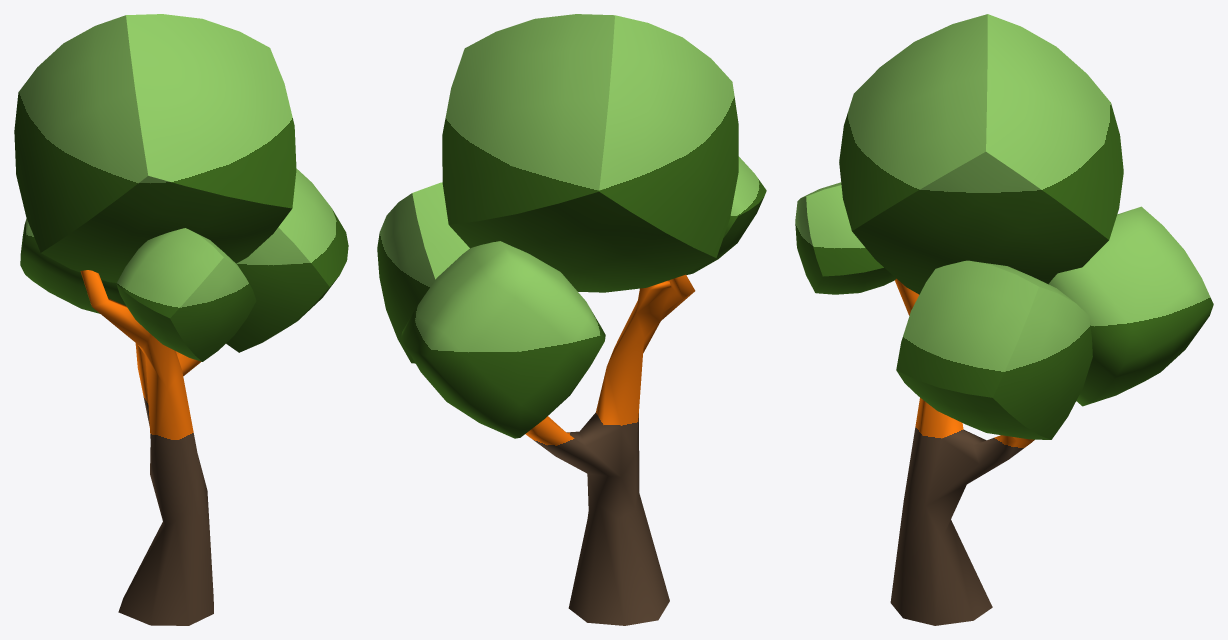
File: tree_raute1.obj
The picture shows the model from 3 angles, left to right: view 1: azimuth 30°, elevation 25°; view 2: azimuth 150°, elevation 25°; view 3: azimuth 270°, elevation 25°; orthographic projection. The views are drawn at different scales.
Parts seen in each view (by area): view 1: Tree.035_Circle.025; view 2: Tree.035_Circle.025; view 3: Tree.035_Circle.025.
Boxes of the visible parts, x1=… form: Tree.035_Circle.025: x1=14, y1=14, x2=348, y2=625; Tree.035_Circle.025: x1=377, y1=14, x2=766, y2=625; Tree.035_Circle.025: x1=795, y1=14, x2=1213, y2=625.
Size of the model in its own units: 4.3 by 7.59 by 4.95.
Materials: 1 (1 with a texture image).
